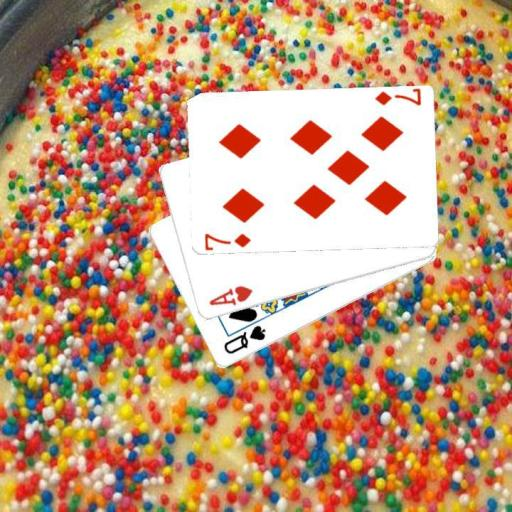7D: (201, 231, 253, 250), (371, 89, 422, 108)
AH: (205, 283, 254, 307)
QS: (220, 322, 267, 356)
